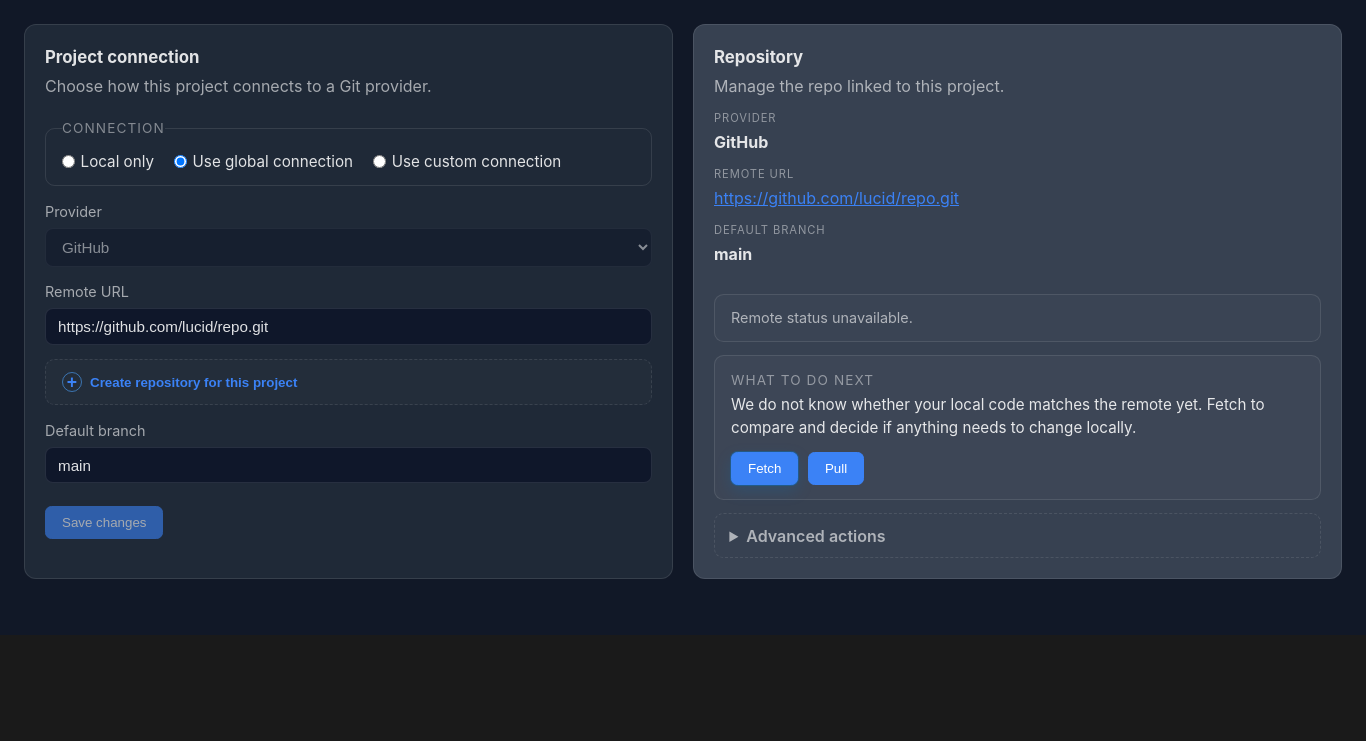
it: GitTab › falls back to default repo name when project title cannot be slugified
The width and height of the screenshot is (1366, 741).
What coordinates should you click on to do the following:
click the button with test id "git-show-remote-creator"
I would click on:
 (194, 382)
Its box is [62, 372, 635, 392].
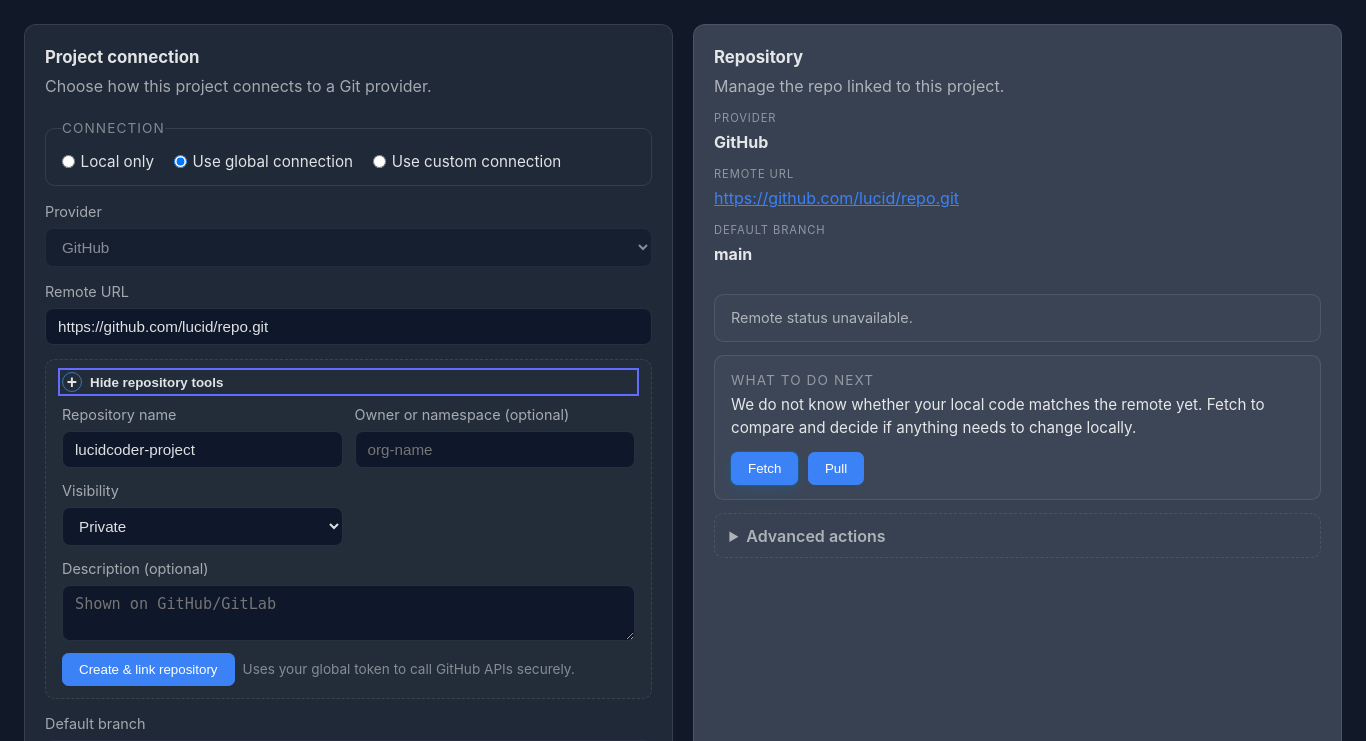
Check: the field with test id "git-remote-create-name" holds "lucidcoder-project", box [62, 431, 342, 468]
